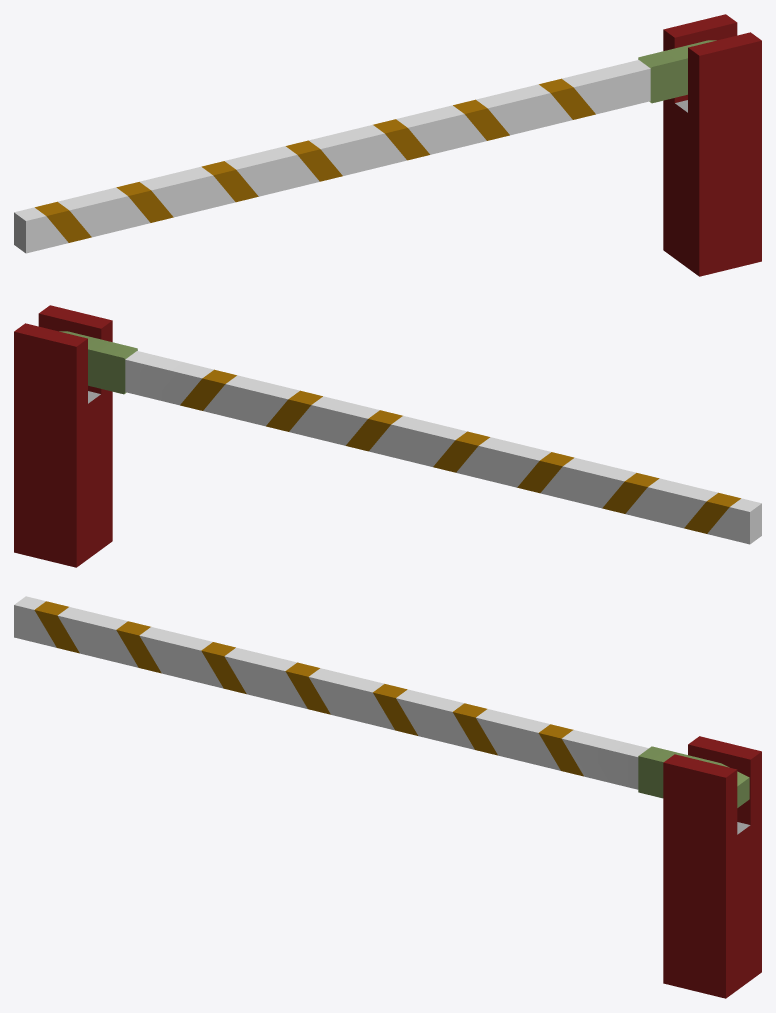
File: arm_lo - Copy.fbx
3 renders of one model, top to bottom at view 1: azimuth 30°, elevation 25°; view 2: azimuth 150°, elevation 25°; view 3: azimuth 330°, elevation 25°, orthographic.
Parts seen in each view (by area): view 1: polySurface1, polySurface2; view 2: polySurface1, polySurface2; view 3: polySurface1, polySurface2.
Boxes of the visible parts, box(x1,y1,x2,y2) form: polySurface1: box(14, 40, 716, 253); polySurface2: box(663, 14, 761, 276); polySurface1: box(59, 331, 761, 544); polySurface2: box(14, 305, 112, 567); polySurface1: box(14, 596, 749, 807); polySurface2: box(663, 736, 761, 998).
Size of the model in its own units: 313 by 91.17 by 27.
